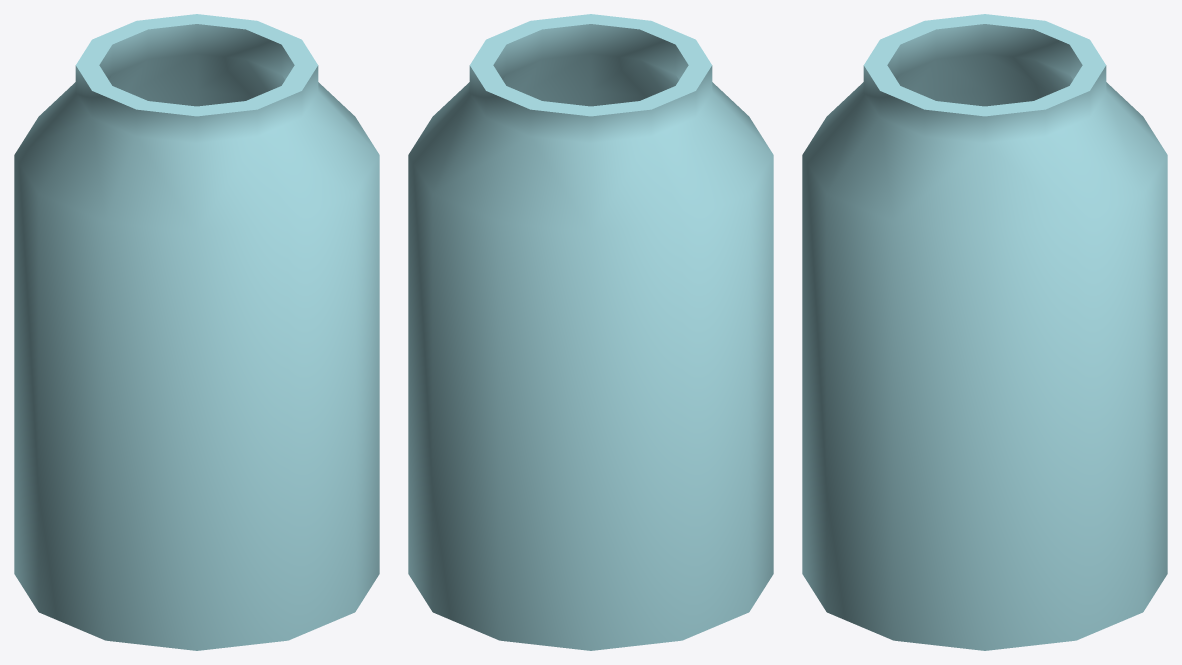
File: JarEmpty1.fbx
3 views of the same model, side by side, from view 1: azimuth 30°, elevation 25°; view 2: azimuth 150°, elevation 25°; view 3: azimuth 270°, elevation 25° (orthographic).
Parts seen in each view (by area): view 1: JarEmpty1; view 2: JarEmpty1; view 3: JarEmpty1.
Part boxes in pixels (left/top/right/bottom): JarEmpty1: left=14, top=14, right=379, bottom=650; JarEmpty1: left=408, top=14, right=773, bottom=650; JarEmpty1: left=802, top=14, right=1167, bottom=650.
Size of the model in its own units: 10.56 by 16.2 by 10.56.
